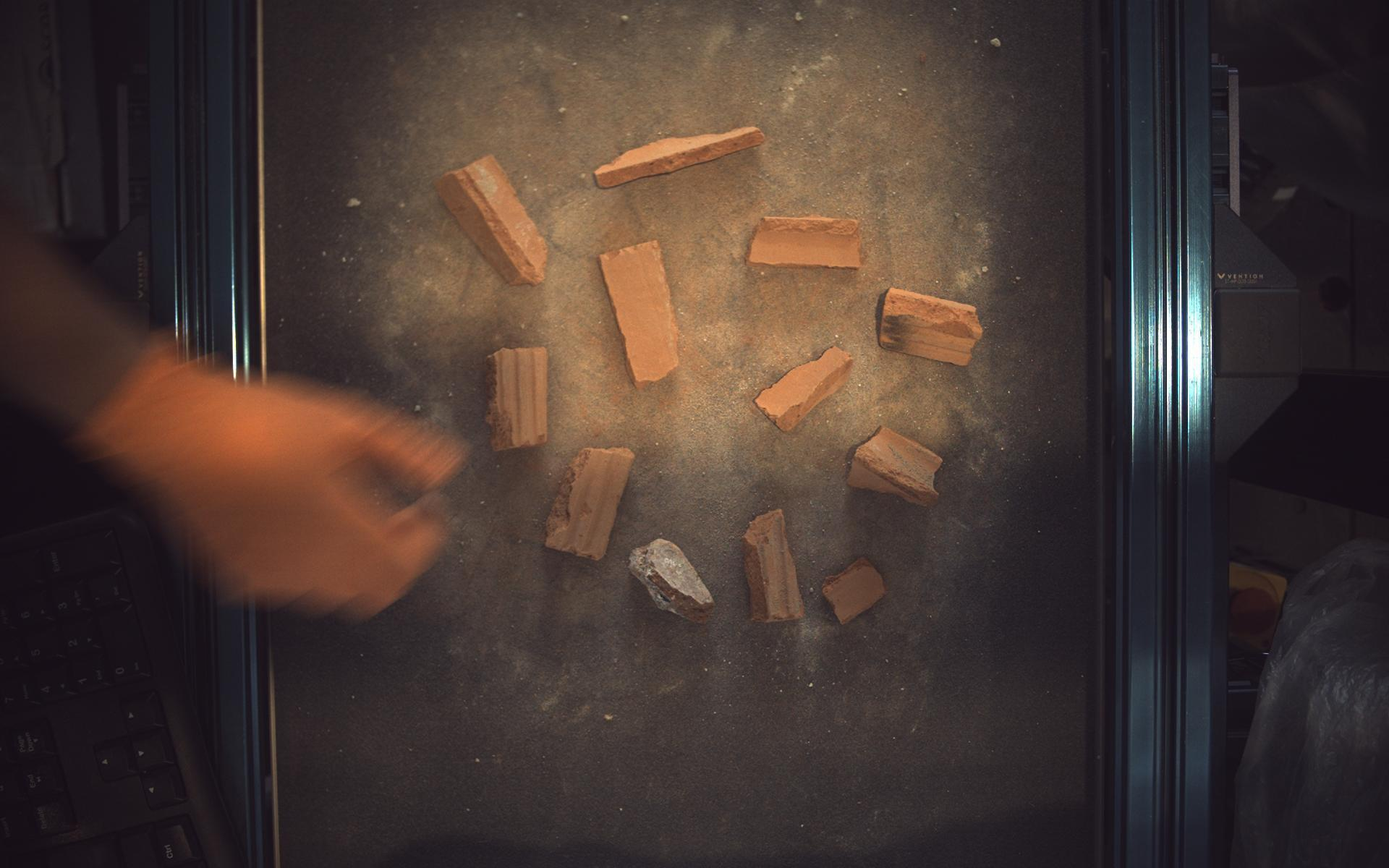brick: (436, 154, 548, 284), (600, 239, 680, 388), (596, 125, 766, 187), (547, 448, 635, 561), (757, 346, 854, 432), (880, 288, 985, 366), (849, 427, 943, 506), (630, 539, 715, 624), (744, 509, 806, 623), (486, 347, 548, 451), (748, 216, 862, 268), (823, 558, 888, 625)
